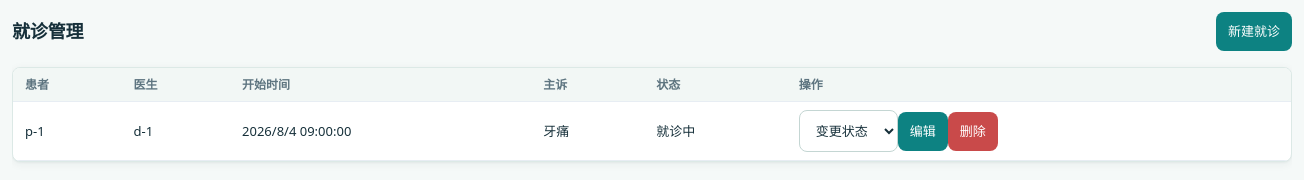
Test: VisitsPage › reports status transition failures
Step 1. Select "已完成" in the dropdown named "变更就诊状态" → {"x": 848, "y": 131}, box [799,110,898,152]
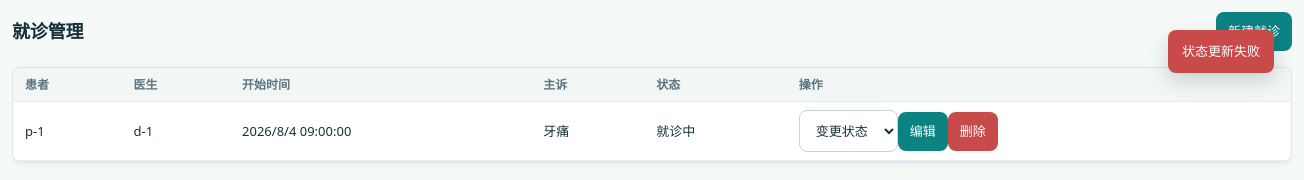
Expected: the text "状态更新失败" is shown, [1168,30,1274,73]
